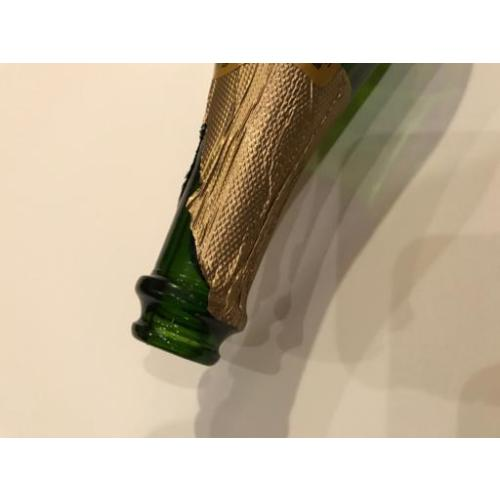glass: (132, 64, 374, 354)
